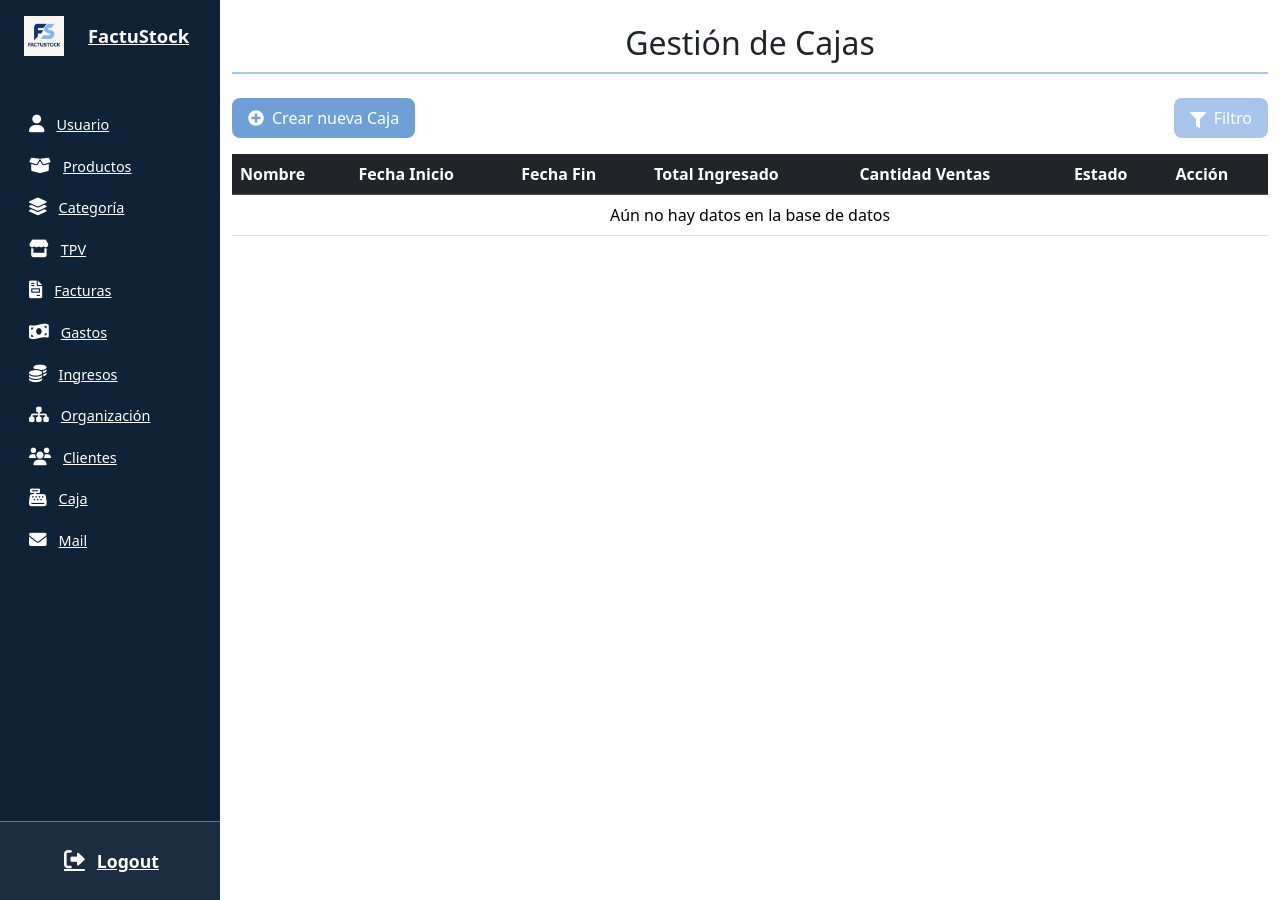
CajaComponent › abre el modal para crear caja
Click the button "Crear nueva Caja" at (324, 118), box x1=232 y1=98 x2=415 y2=138
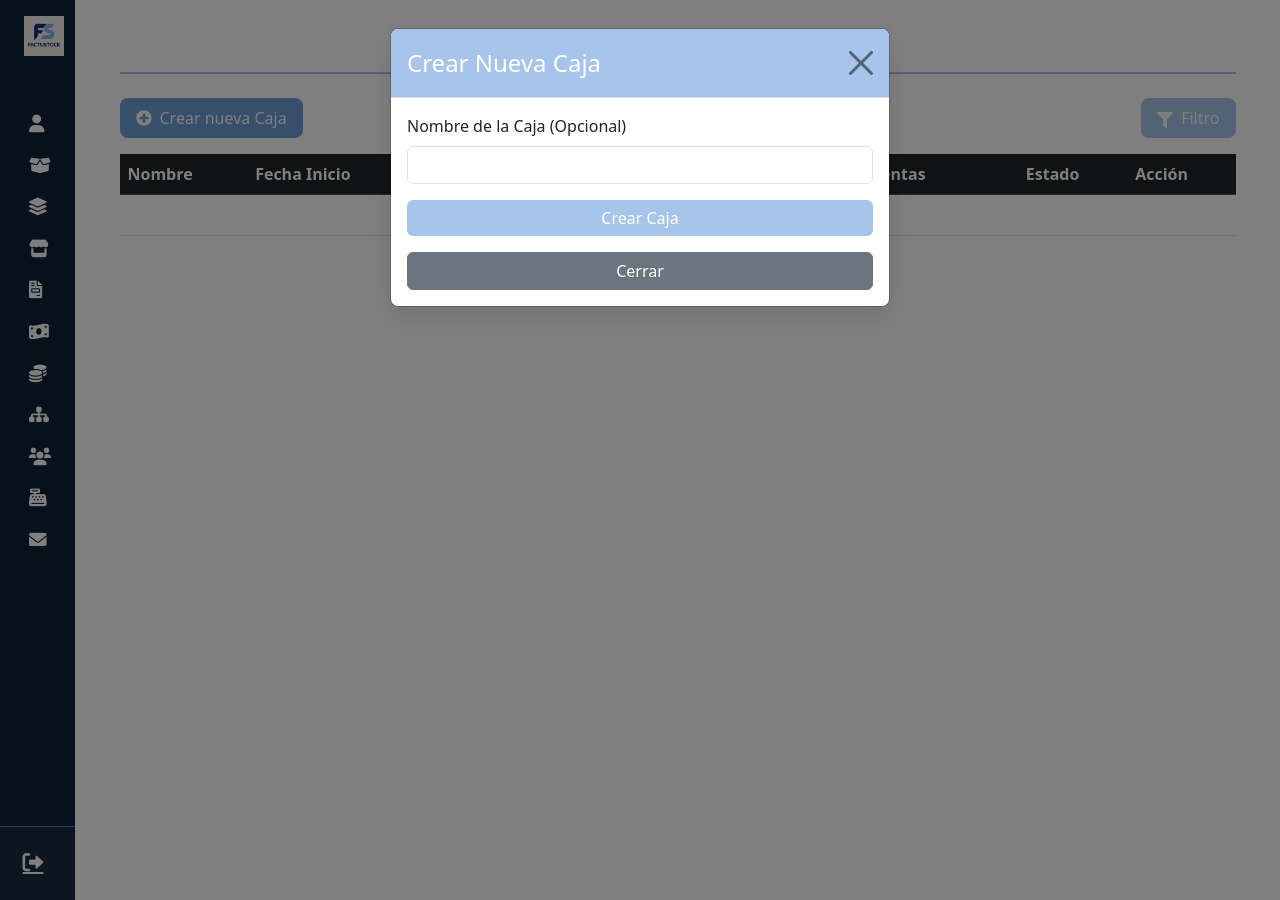
Check: the text "Crear Nueva Caja" is shown, box x1=407 y1=45 x2=601 y2=81
